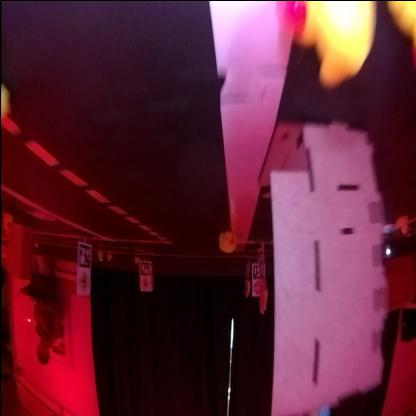Duckie: (298, 2, 374, 90), (218, 231, 236, 253), (395, 215, 410, 235), (98, 251, 104, 261)
Intersection sign: (78, 275, 90, 292), (141, 278, 149, 290)
QR code: (78, 245, 90, 268), (140, 262, 148, 276)
